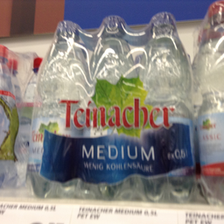water: (136, 11, 198, 198), (29, 20, 86, 196), (85, 15, 137, 199)
